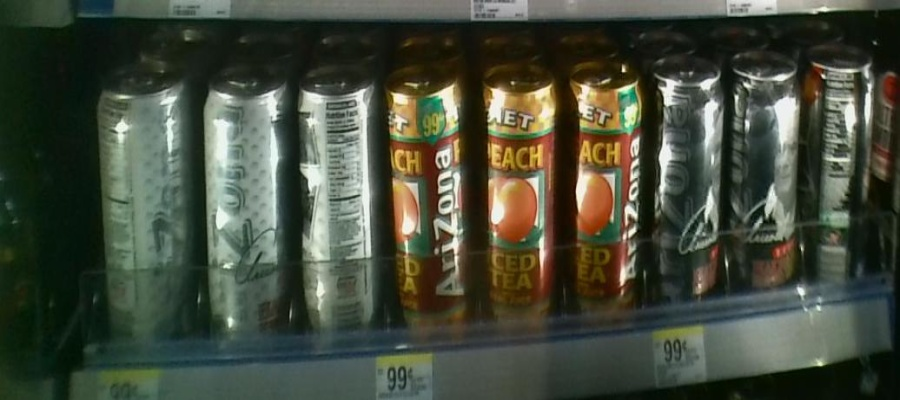bottle: (87, 64, 191, 352), (197, 64, 292, 358), (383, 57, 473, 349), (297, 61, 379, 352), (564, 60, 648, 334), (478, 55, 558, 332), (725, 50, 807, 315), (653, 50, 725, 321), (809, 41, 877, 306)
